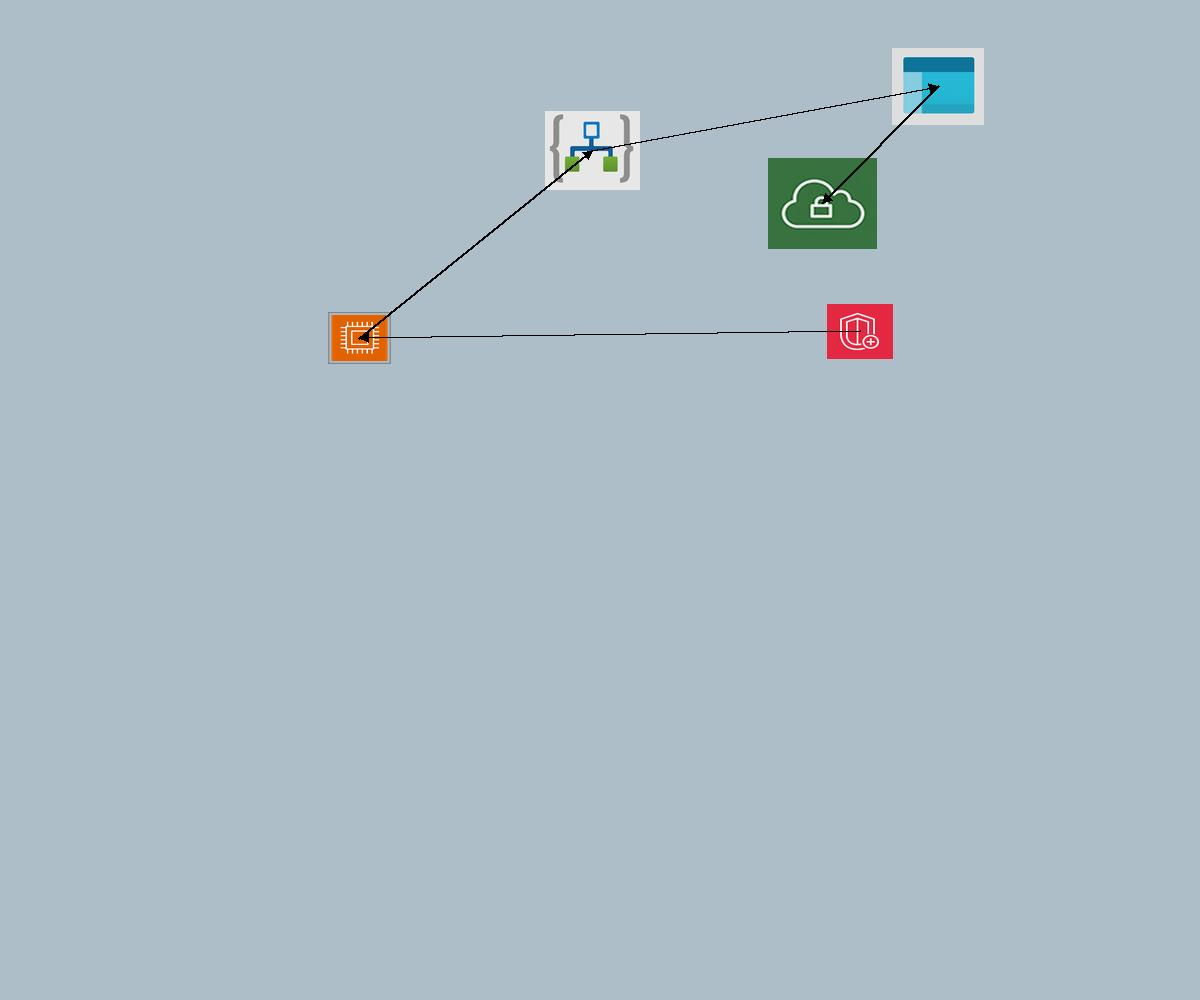AWS-Category_Compute: (328, 312, 391, 364)
AWS-Private_vpc: (768, 158, 877, 249)
AWS-Shield: (827, 304, 893, 359)
Azure_integration-204-Logic-Apps: (545, 111, 640, 190)
Azure_management-portal: (892, 48, 984, 125)
